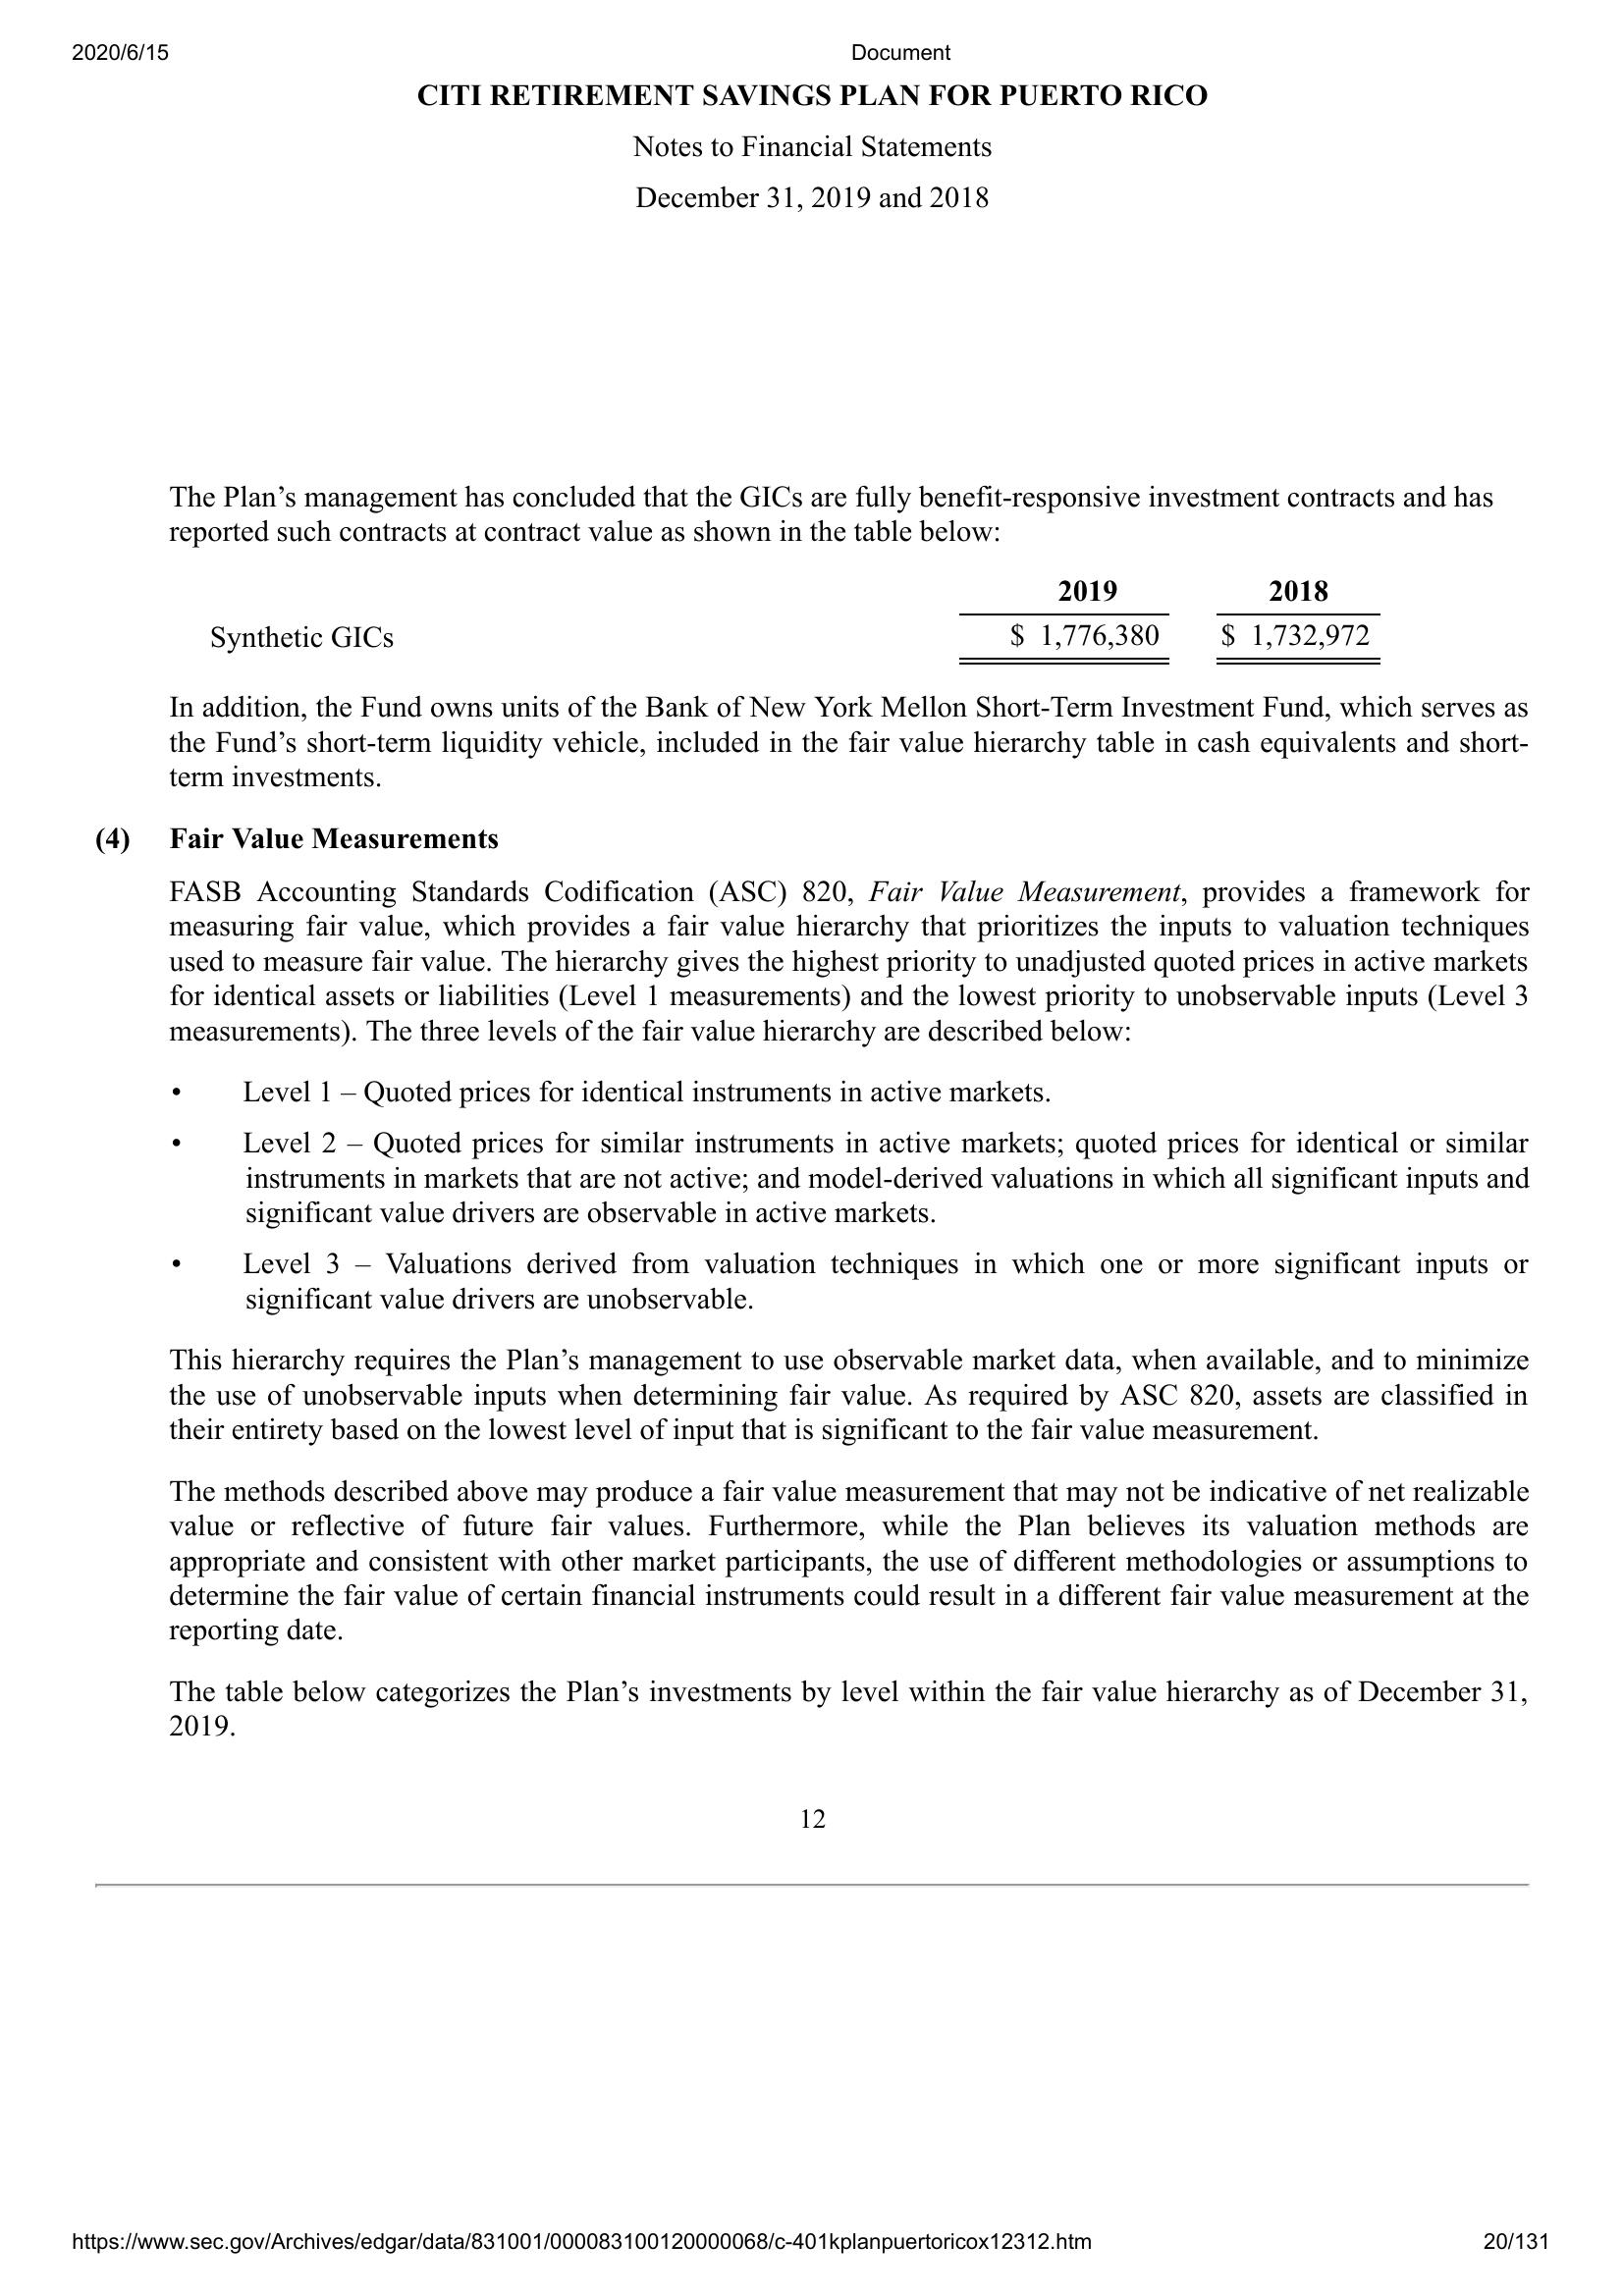table: (193, 567, 1391, 669)
